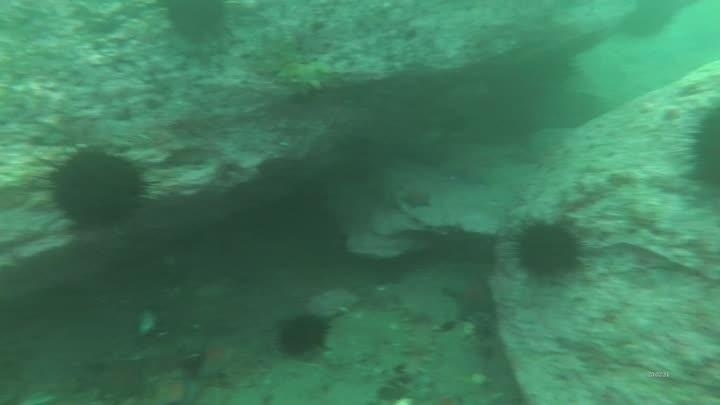echinus: (42, 142, 152, 233), (509, 216, 588, 285), (679, 101, 720, 193), (159, 1, 233, 48), (274, 310, 333, 361)
holothurian: (272, 56, 343, 98)
starfish: (89, 354, 153, 404), (441, 271, 497, 322), (192, 336, 240, 382), (146, 369, 203, 405), (397, 185, 436, 213)
